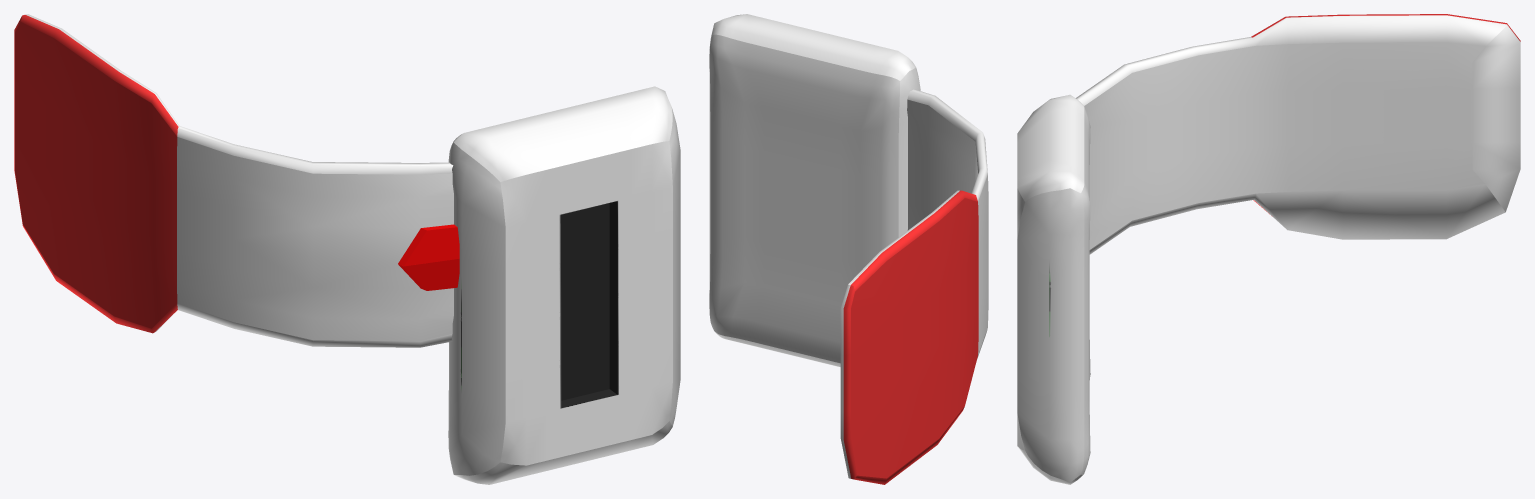
Rendered from accessoire_détecteur.FBX.
3 views of the same model, side by side, from view 1: azimuth 30°, elevation 25°; view 2: azimuth 150°, elevation 25°; view 3: azimuth 270°, elevation 25° (orthographic). The views are drawn at different scales.
Visible parts, largest first — view 1: Box002, Box001; view 2: Box001, Box002; view 3: Box002, Box001.
Boxes of the visible parts, left/top/right/bottom form: Box002: left=14, top=14, right=459, bottom=347; Box001: left=448, top=86, right=680, bottom=484; Box001: left=709, top=14, right=920, bottom=367; Box002: left=840, top=89, right=988, bottom=484; Box002: left=1076, top=14, right=1520, bottom=254; Box001: left=1017, top=94, right=1090, bottom=484.
Size of the model in its own units: 37.43 by 30.74 by 45.6.
Materials: 1 (1 with a texture image).
